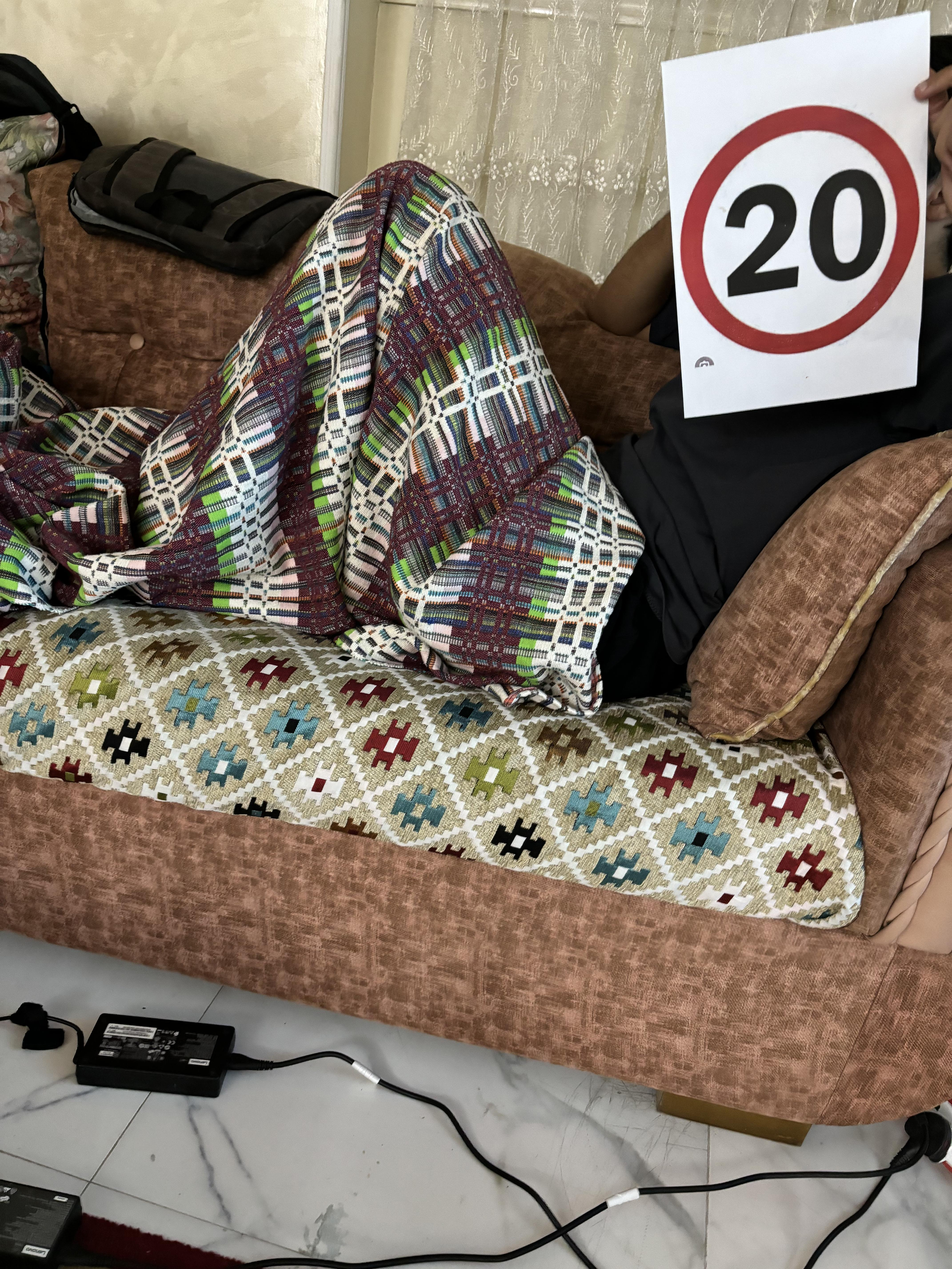20-Speed: (685, 103, 907, 344)
